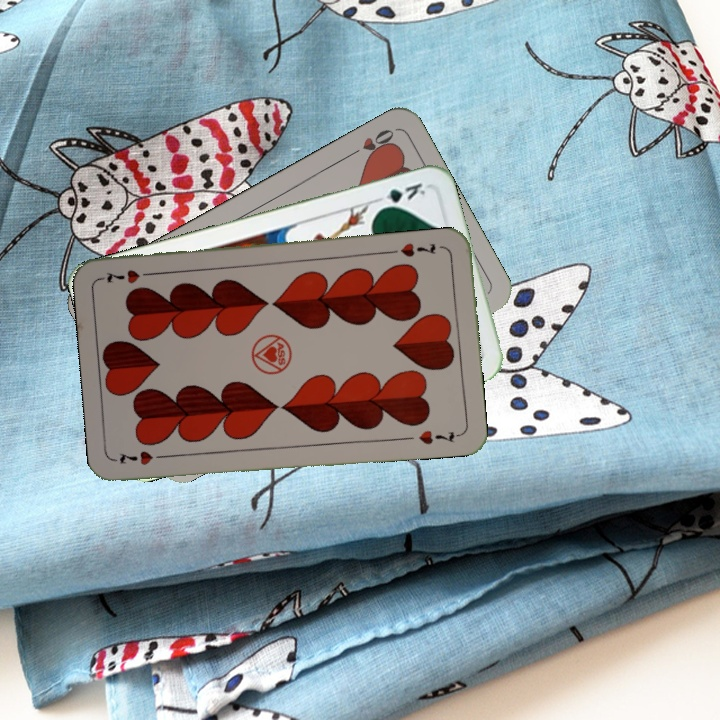GK: (371, 178, 428, 213)
H7: (115, 447, 172, 468), (396, 239, 439, 260)
HO: (343, 125, 397, 161)
